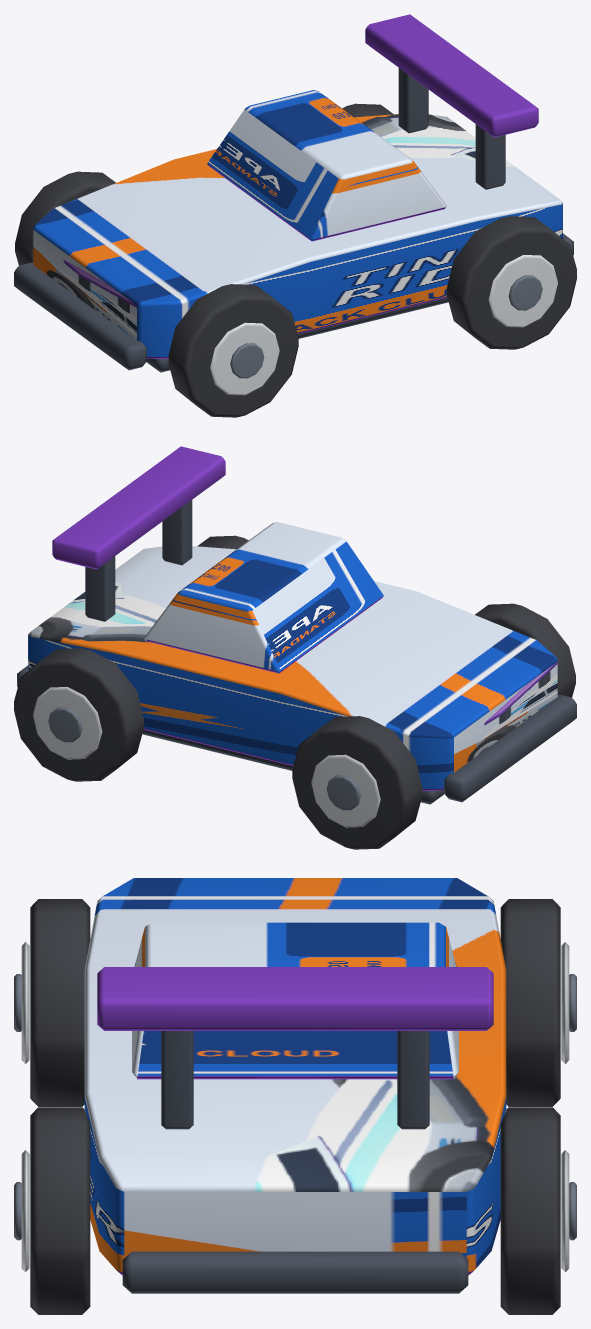
The picture shows the model from 3 angles, top to bottom: view 1: azimuth 30°, elevation 25°; view 2: azimuth 150°, elevation 25°; view 3: azimuth 270°, elevation 25°; orthographic projection. The views are drawn at different scales.
Visible parts, largest first — view 1: TC-05_connected_shell, TC-05_cabin, Tire, Tire.002, rear airfoil, front bumper, Rim, Rim.002, Tire.001, wing support, wing support.001, underbody (+3 smaller); view 2: TC-05_connected_shell, TC-05_cabin, Tire.001, Tire.003, rear airfoil, front bumper, Rim.001, Rim.003, Tire, wing support.001, wing support, underbody (+3 smaller); view 3: TC-05_connected_shell, TC-05_cabin, rear airfoil, rear bumper, Tire.002, Tire.003, Tire, Tire.001, wing support, wing support.001, Rim.002, Rim.003 (+2 smaller).
Boxes of the visible parts, x1,y1,x2,y2 form: TC-05_connected_shell: [33, 114, 562, 358]; TC-05_cabin: [207, 90, 446, 241]; Tire: [168, 284, 298, 417]; Tire.002: [447, 216, 576, 349]; rear airfoil: [365, 14, 538, 137]; front bumper: [14, 262, 146, 370]; Rim: [210, 322, 279, 395]; Rim.002: [488, 255, 557, 327]; Tire.001: [15, 171, 115, 265]; wing support: [475, 124, 505, 189]; wing support.001: [398, 68, 428, 133]; underbody: [146, 298, 448, 372]; TC-05_connected_shell: [28, 546, 557, 790]; TC-05_cabin: [144, 522, 383, 673]; Tire.001: [292, 716, 422, 849]; Tire.003: [14, 648, 143, 781]; rear airfoil: [52, 446, 225, 569]; front bumper: [444, 694, 576, 802]; Rim.001: [311, 754, 380, 827]; Rim.003: [33, 687, 102, 759]; Tire: [475, 603, 575, 697]; wing support.001: [85, 556, 115, 621]; wing support: [162, 500, 192, 565]; underbody: [142, 730, 444, 804]; TC-05_connected_shell: [84, 878, 506, 1275]; TC-05_cabin: [132, 922, 458, 1079]; rear airfoil: [97, 967, 493, 1030]; rear bumper: [122, 1251, 468, 1293]; Tire.002: [30, 1107, 90, 1314]; Tire.003: [500, 1107, 560, 1314]; Tire: [30, 899, 90, 1106]; Tire.001: [500, 899, 560, 1106]; wing support: [161, 1031, 193, 1129]; wing support.001: [397, 1031, 429, 1129]; Rim.002: [21, 1150, 29, 1271]; Rim.003: [561, 1150, 569, 1271].
Size of the model in its own units: 345 by 159 by 243.
